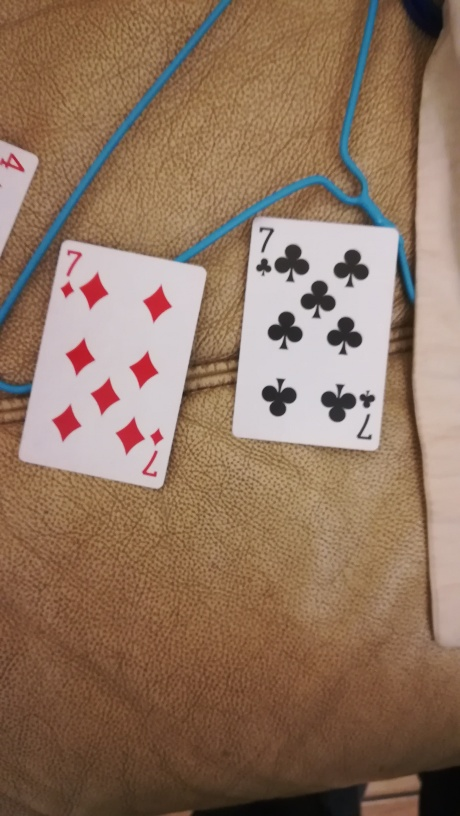fk 7: (15, 233, 211, 494)
mh 7: (233, 216, 399, 463)
